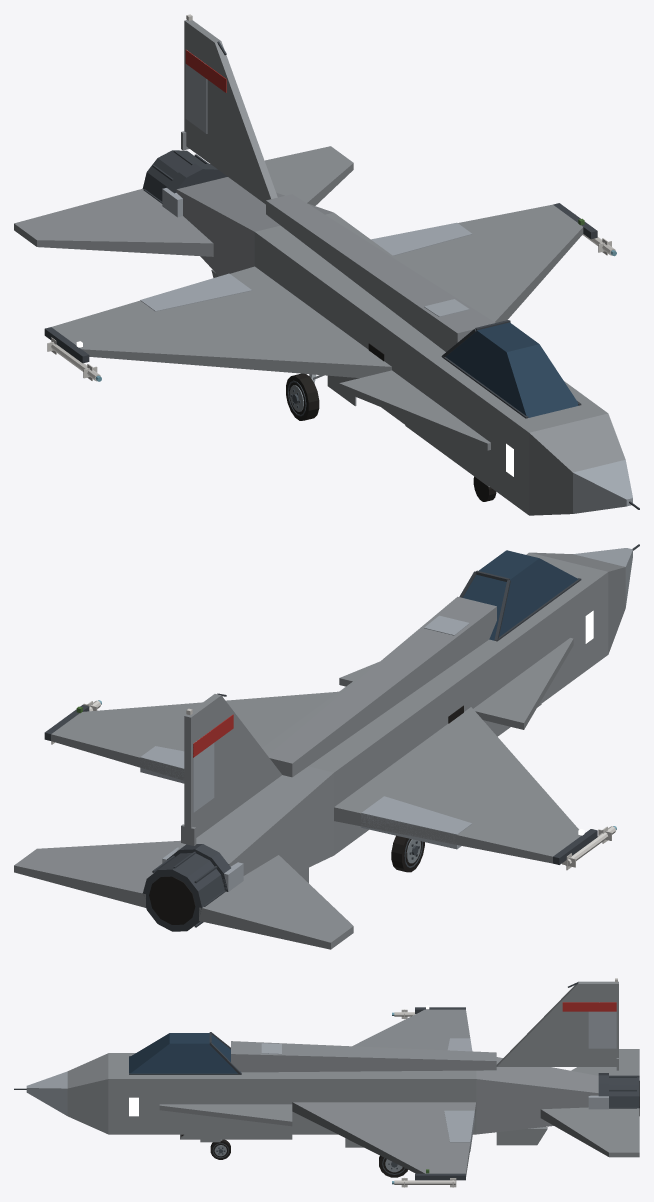
3 views of the same model, one above another, from view 1: azimuth 30°, elevation 25°; view 2: azimuth 150°, elevation 25°; view 3: azimuth 270°, elevation 25° (orthographic). The views are drawn at different scales.
Visible parts, largest first — view 1: fuselage, wings, tail, cockpit, gear, stores; view 2: fuselage, wings, tail, cockpit, gear, stores; view 3: fuselage, wings, tail, cockpit, gear, stores.
Part boxes in pixels (x1,y1,x2,y2): fuselage: (176, 177, 639, 515); wings: (44, 203, 597, 450); tail: (14, 14, 353, 277); cockpit: (441, 320, 581, 418); gear: (286, 373, 496, 501); stores: (47, 214, 616, 381); fuselage: (176, 544, 639, 875); wings: (44, 638, 597, 864); tail: (14, 693, 353, 949); cockpit: (459, 550, 581, 641); gear: (391, 835, 424, 872); stores: (47, 700, 616, 870); fuselage: (14, 1041, 598, 1139); wings: (159, 1005, 476, 1180); tail: (496, 978, 639, 1157); cockpit: (129, 1032, 241, 1074); gear: (200, 1138, 407, 1177); stores: (392, 1009, 456, 1187).
Size of what is drawn, in the model's own units: 10 by 4.85 by 15.32.
